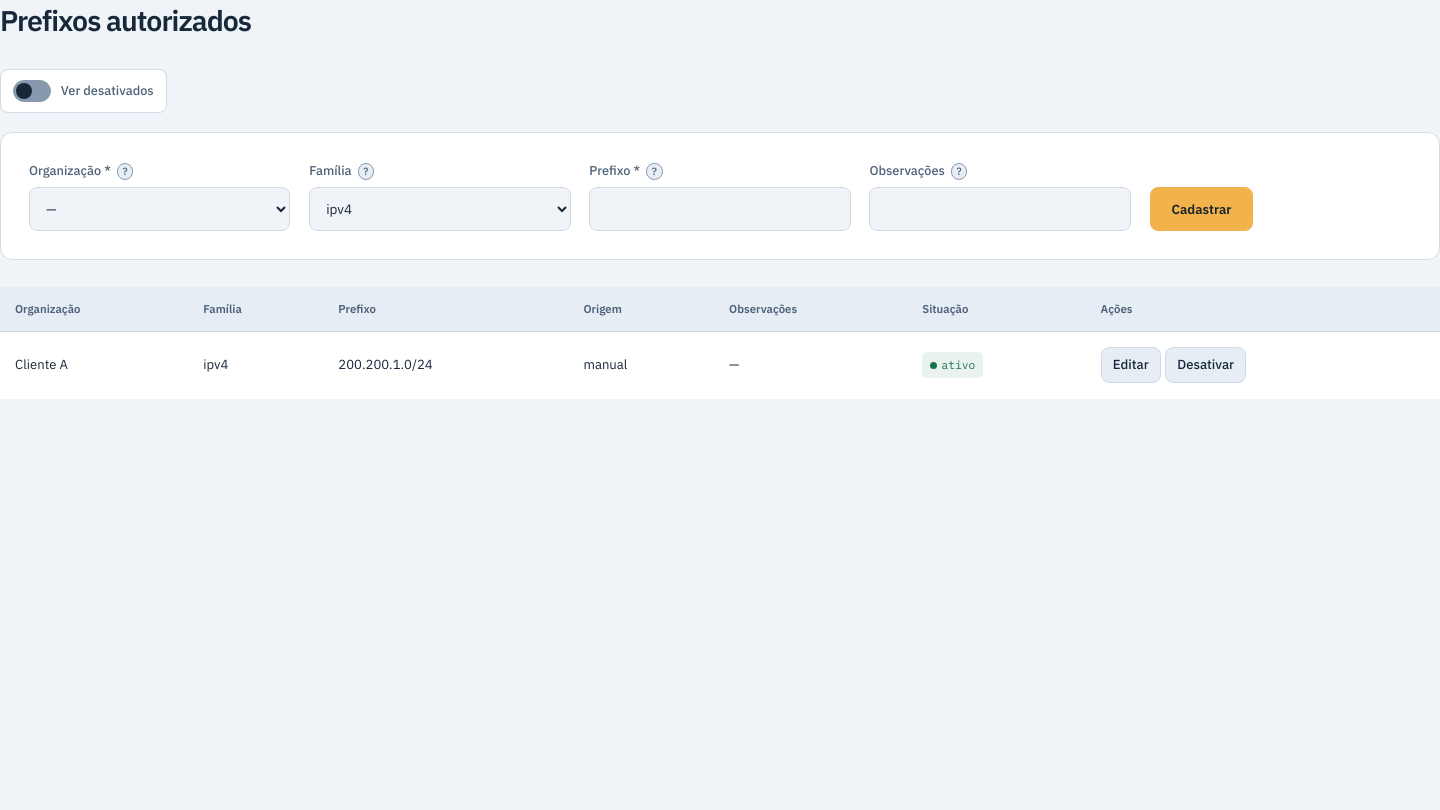
Scenario: PrefixAuthorizations › Editar desativa a atual e cria outra com os valores novos
This screenshot has width=1440, height=810.
Check: the text "200.200.1.0/24" is shown, box [323,331,568,399]
Click the button "Editar" at (1131, 365), box [1101,347,1161,383]
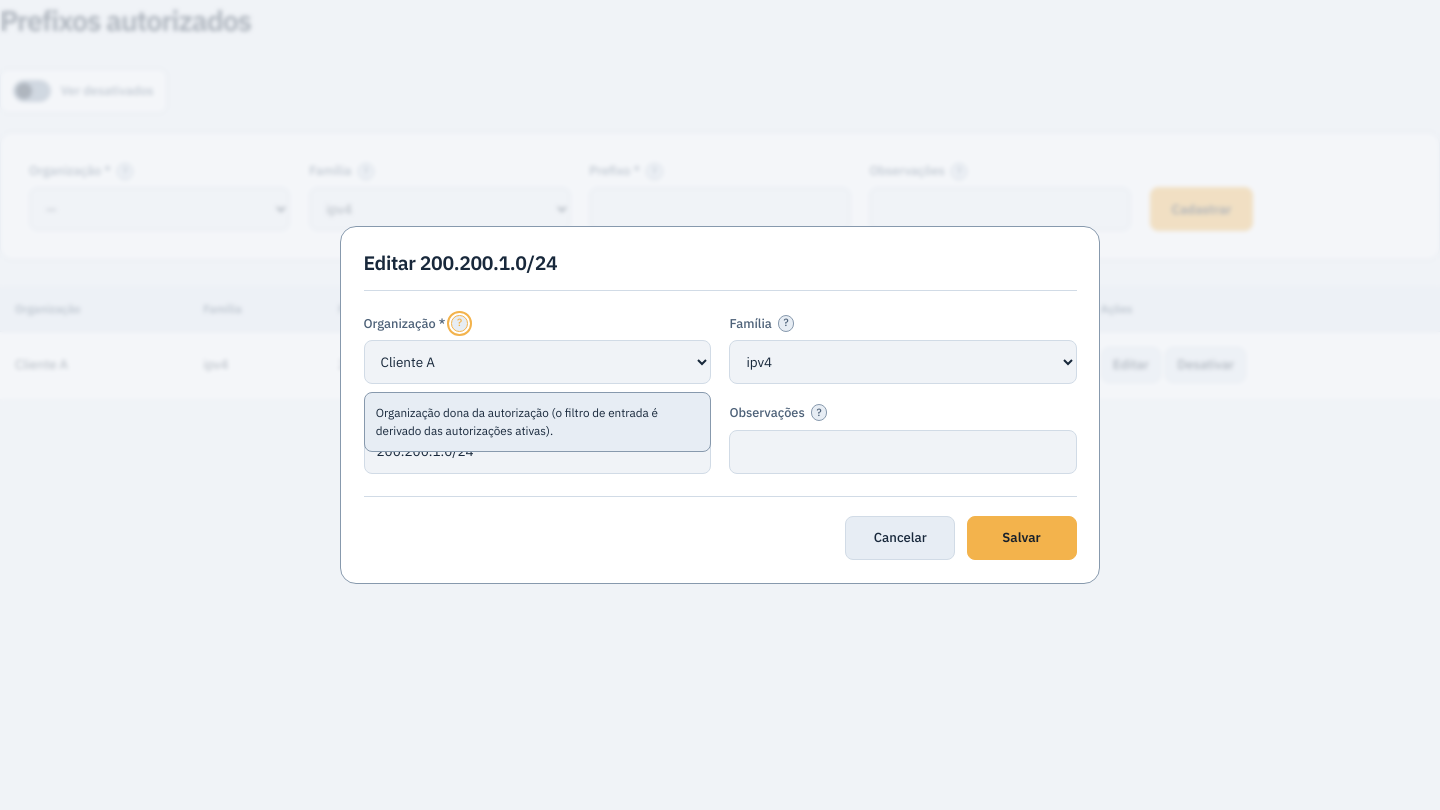
Check: the field labelled "Prefixo * ?" holds "200.200.1.0/24"
Replace the text in the field labelled "Prefixo * ?" with "198.51.100.0/24" at (537, 452), box [364,430,711,474]
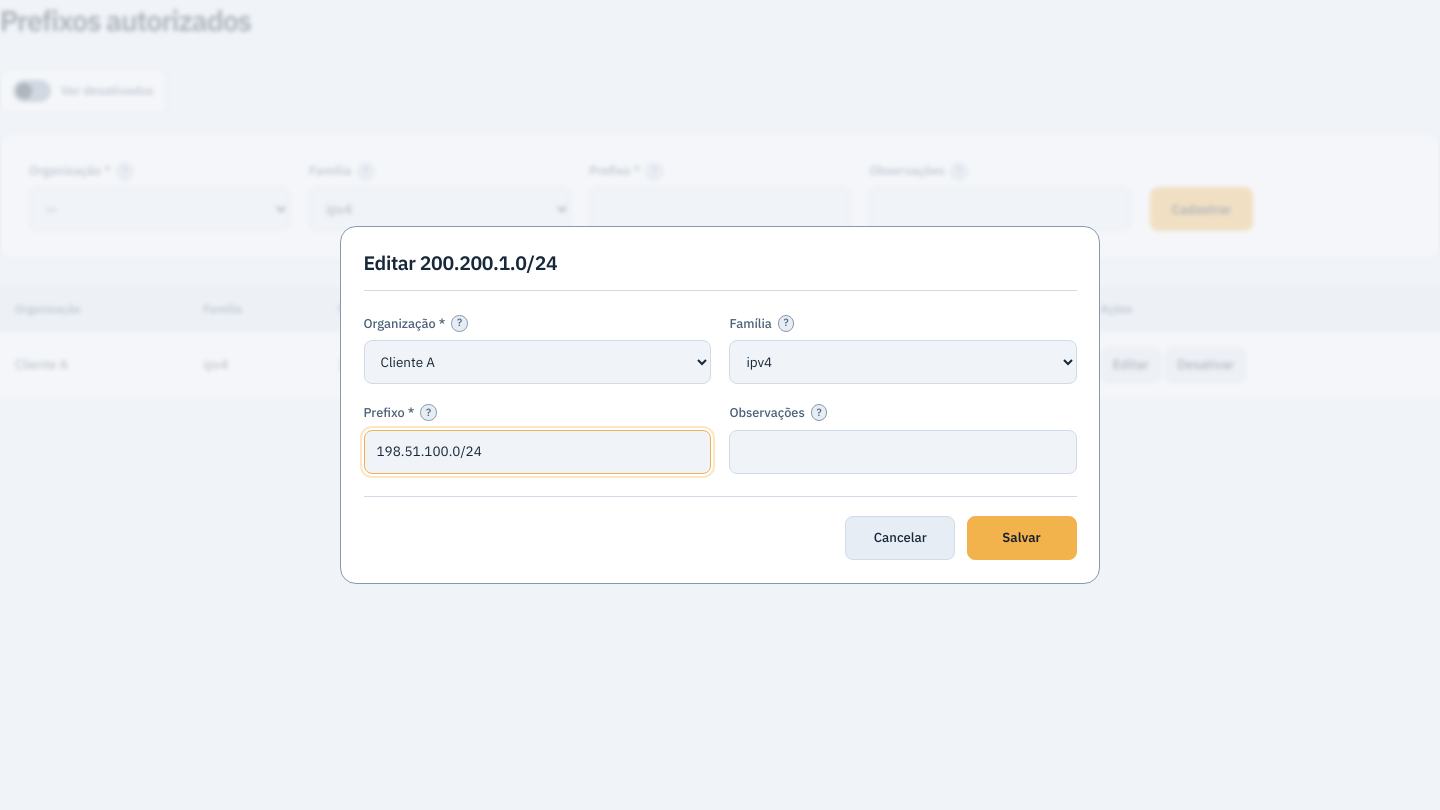
Click the button "Salvar" at (1022, 538), box [966,516,1076,560]
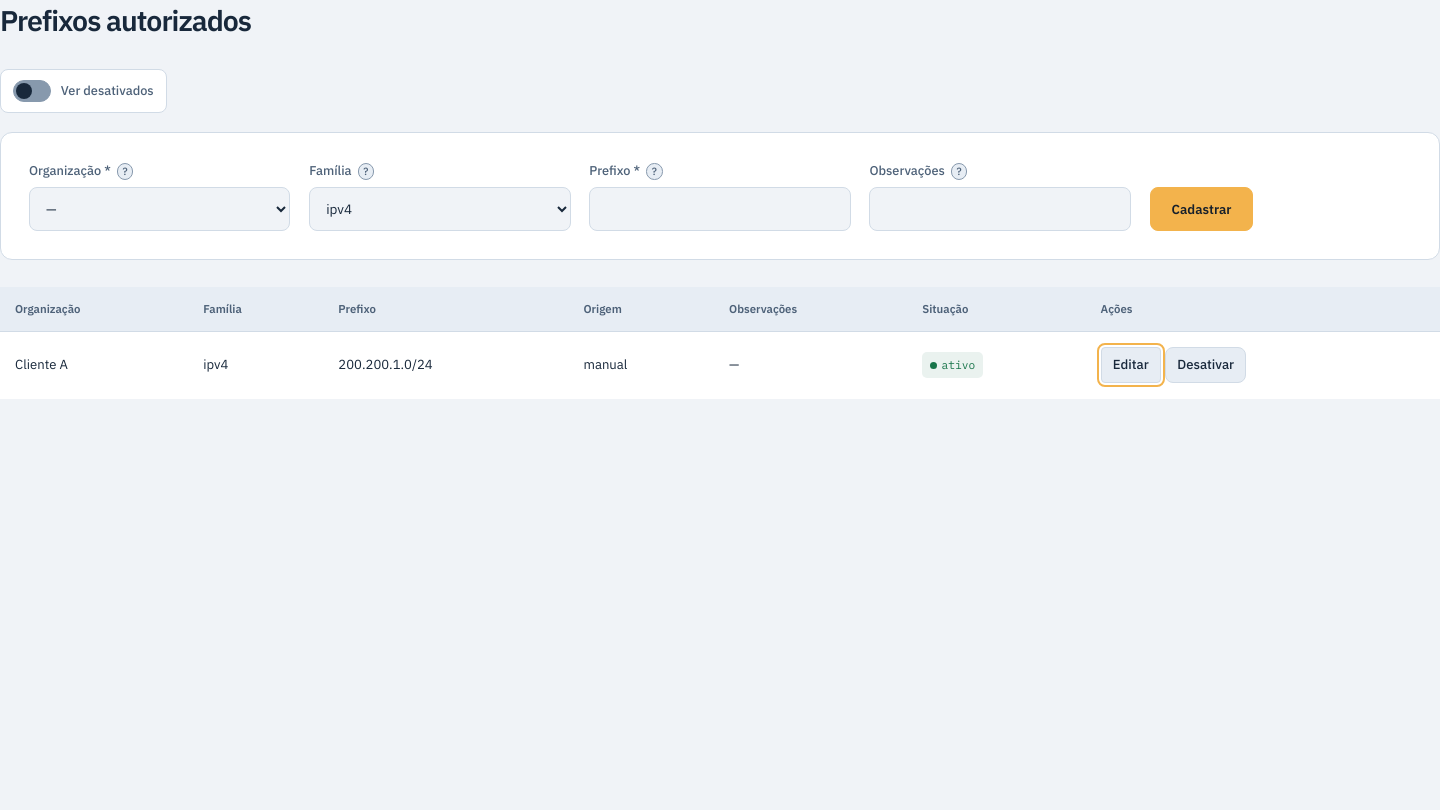
Check: the dialog is gone
